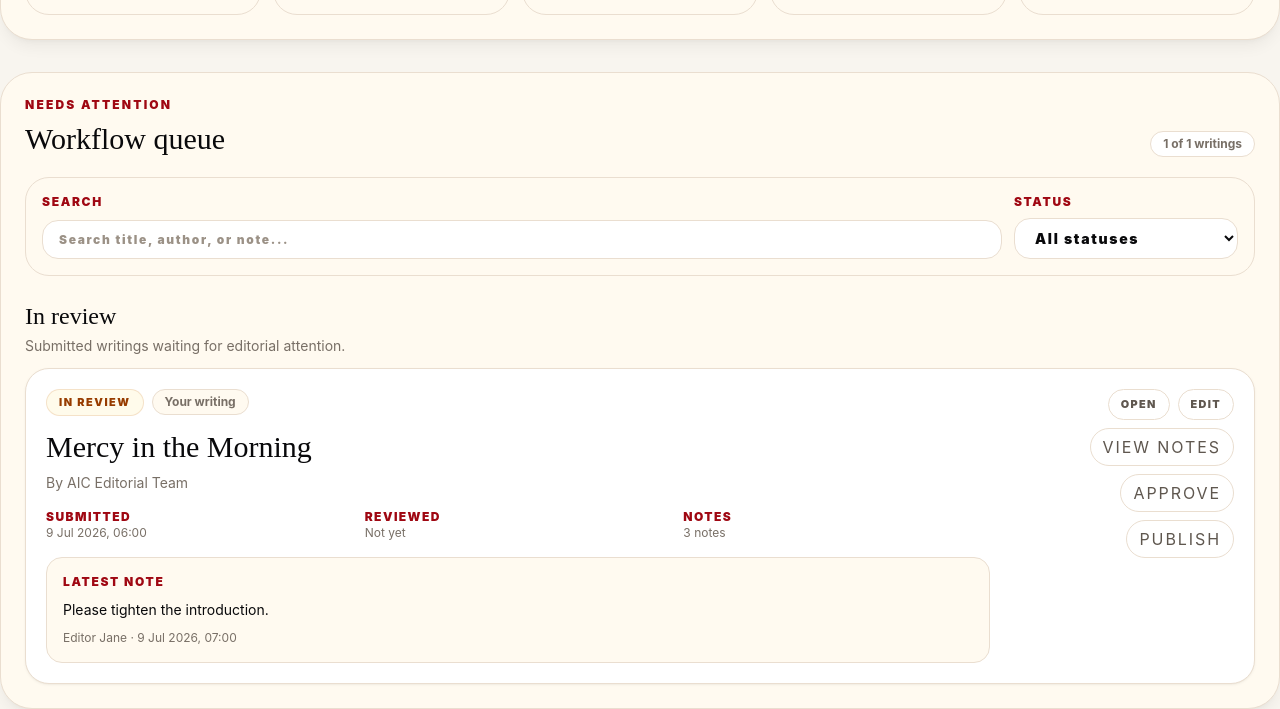
Test: WritingEditorialPage › hides workflow note mutation controls without manage_workflow_notes permission
This screenshot has width=1280, height=709.
(page scrolled)
Click the button "View notes".
click(1162, 447)  # box [1090,428,1234,466]
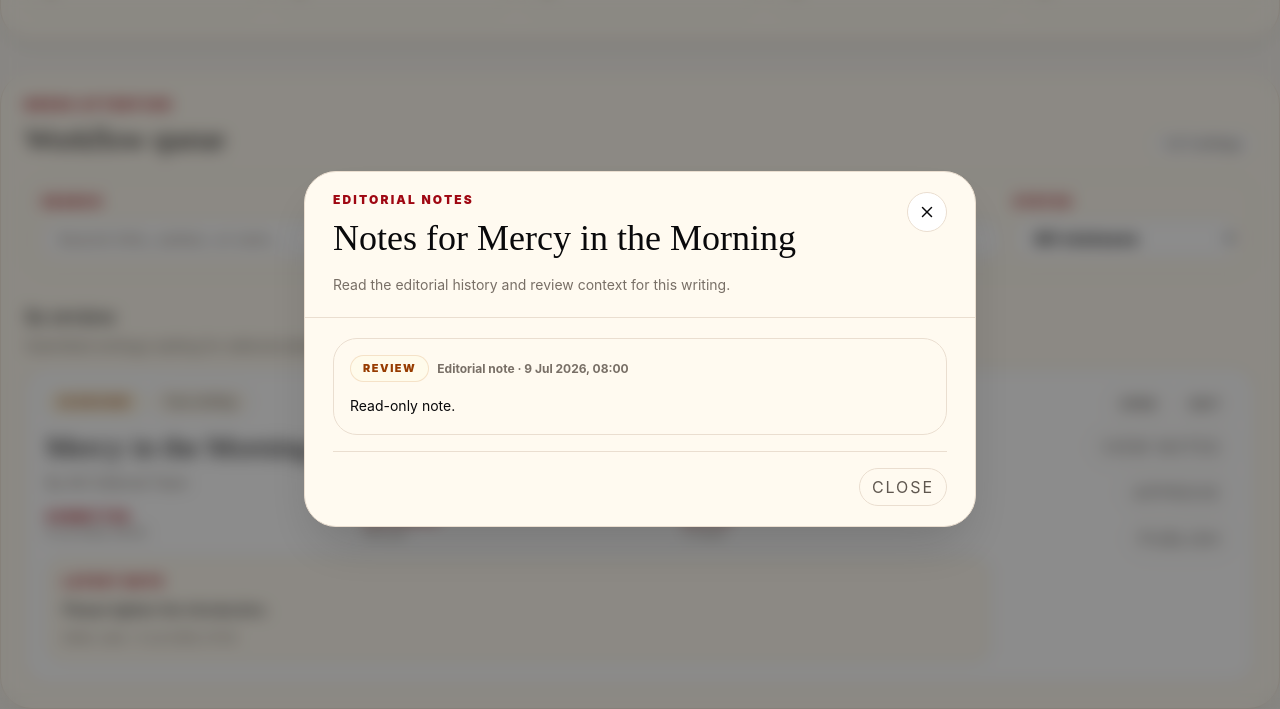
Result: the text "Read-only note." is shown at [350,397,455,414]
